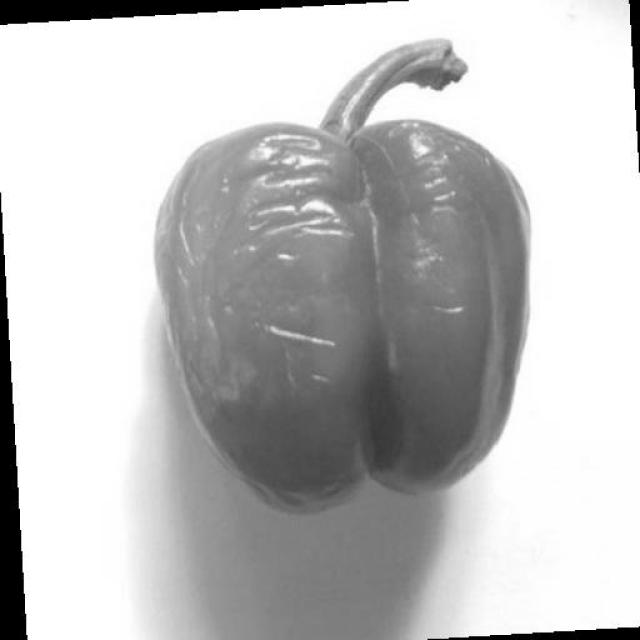Stale_Capsicum: (139, 131, 534, 472)
